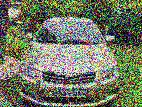car: (17, 17, 119, 107)
